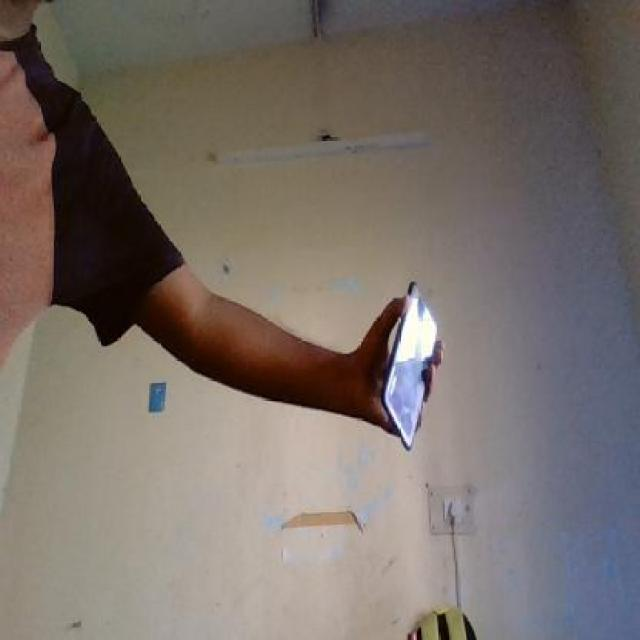Phone: (376, 276, 446, 456)
